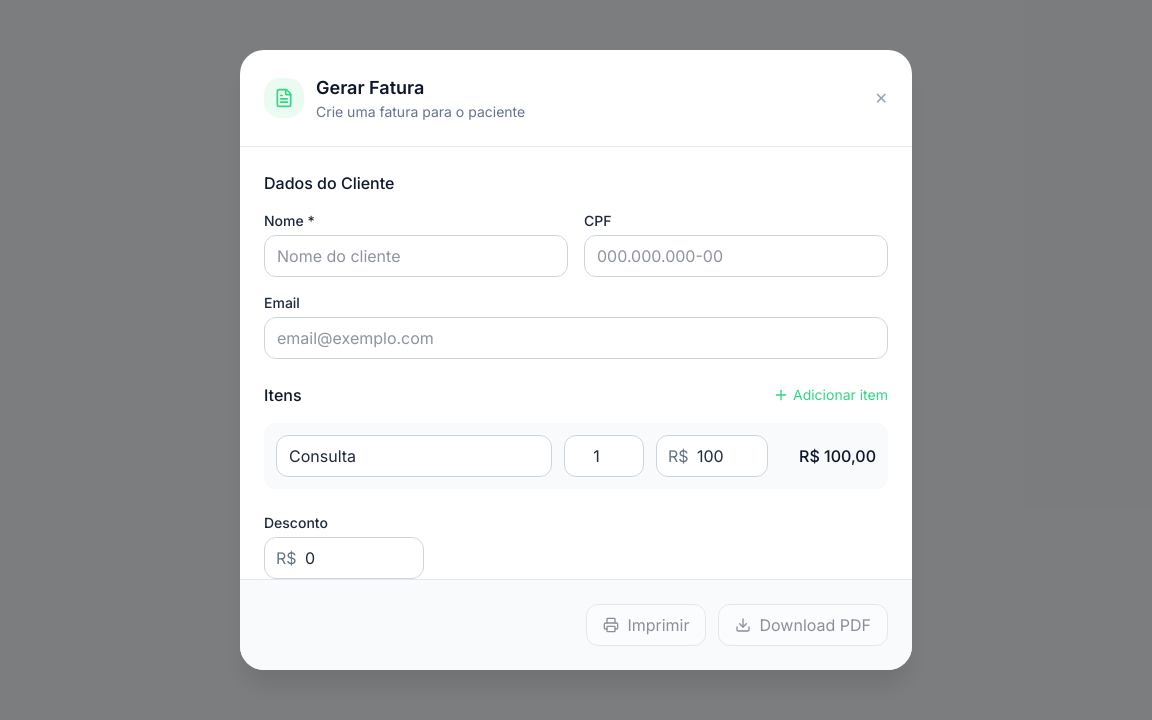
Test: InvoiceGenerator - Calculations › discount › should display discount in totals when applied
The image size is (1152, 720).
Replace the text in the number field below "Desconto" with "10" at (344,558), box top-left (264, 537), bottom-right (424, 579)
(page scrolled)
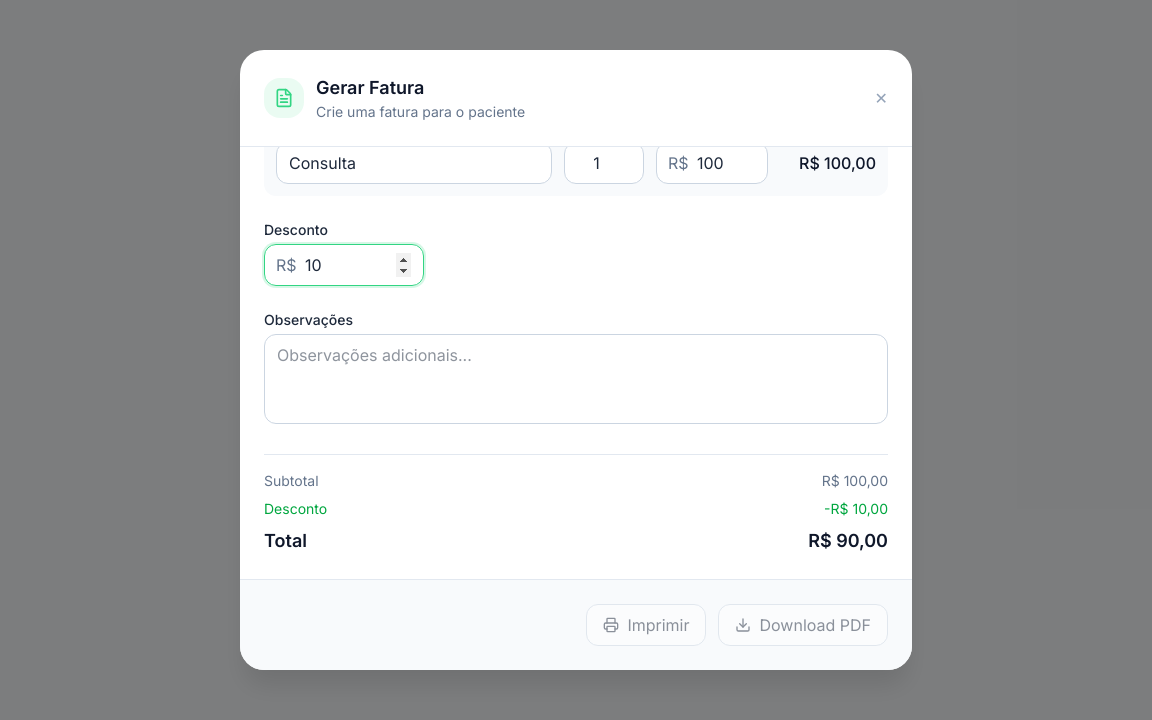
Check: the text "-R$ 10,00" is shown, box top-left (824, 499), bottom-right (888, 519)
